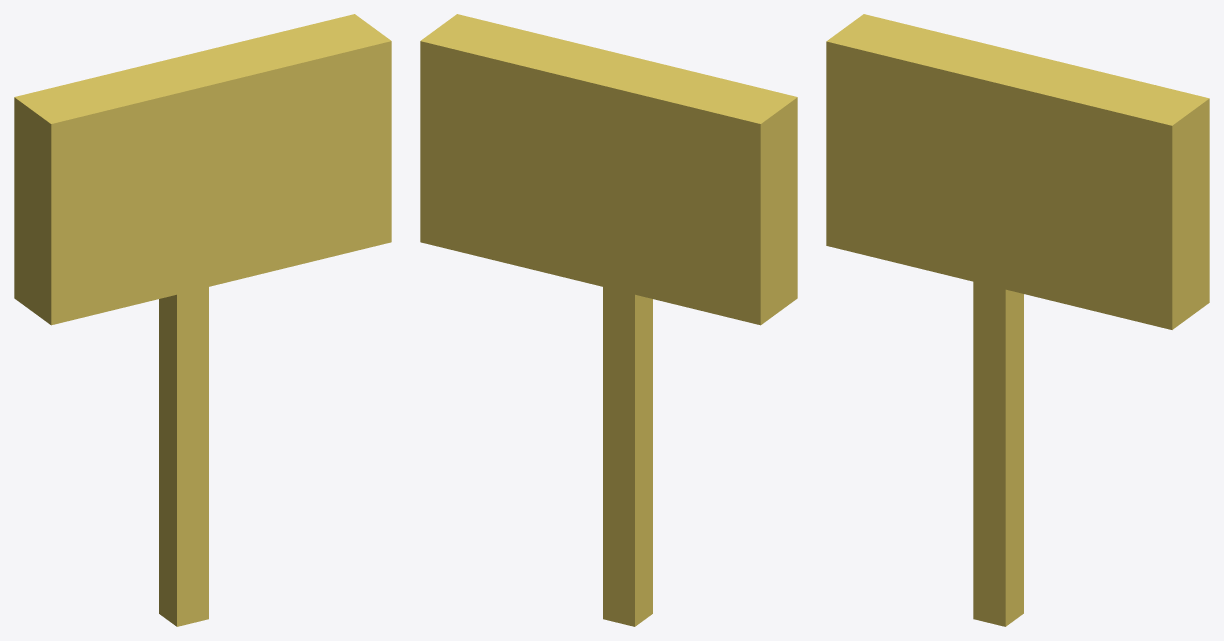
The model's file is Greybox__Sign02.fbx.
The picture shows the model from 3 angles, left to right: view 1: azimuth 30°, elevation 25°; view 2: azimuth 150°, elevation 25°; view 3: azimuth 330°, elevation 25°; orthographic projection.
Visible parts, largest first — view 1: Sign; view 2: Sign; view 3: Sign.
Boxes of the visible parts, x1,y1,x2,y2 form: Sign: (14,14,391,626); Sign: (420,14,797,626); Sign: (826,14,1209,626).
Bounding box in the file's own units: 73.96 × 113 × 13.9.
